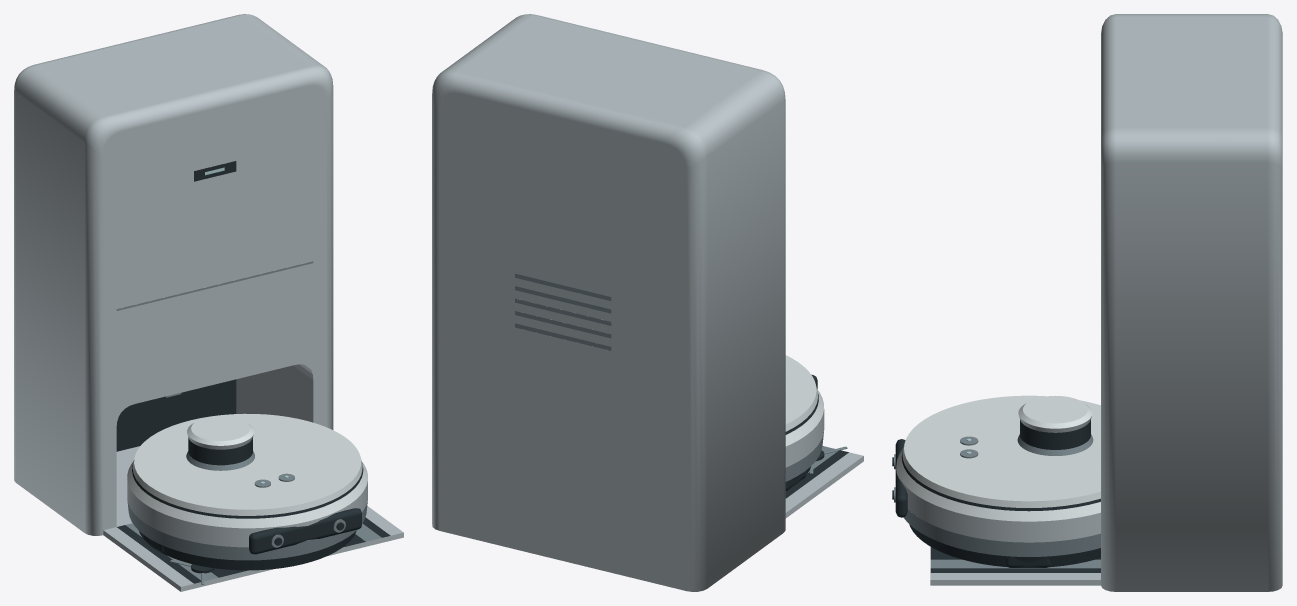
File: 扫地机器人-lite.glb
3 renders of one model, left to right at view 1: azimuth 30°, elevation 25°; view 2: azimuth 150°, elevation 25°; view 3: azimuth 270°, elevation 25°, orthographic. The views are drawn at different scales.
Visible parts, largest first — view 1: vacuum-station, vacuum-robot; view 2: vacuum-station, vacuum-robot; view 3: vacuum-station, vacuum-robot.
Boxes of the visible parts, x1,y1,x2,y2 form: vacuum-station: (14, 14, 403, 591); vacuum-robot: (127, 413, 367, 584); vacuum-station: (432, 14, 863, 591); vacuum-robot: (785, 355, 847, 490); vacuum-station: (930, 14, 1282, 591); vacuum-robot: (892, 395, 1100, 567).
Size of the model in its own units: 0.414 by 0.66 by 0.5155.
